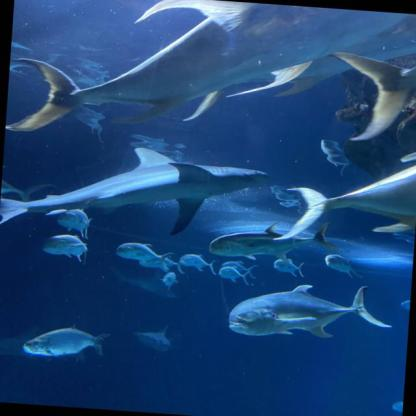fish: (4, 0, 416, 161), (272, 140, 416, 250), (227, 277, 393, 345), (321, 36, 415, 146), (209, 212, 342, 266), (22, 320, 111, 361), (0, 164, 58, 205), (115, 241, 176, 270), (42, 233, 89, 264), (56, 207, 93, 238), (323, 254, 364, 278), (138, 253, 186, 273), (178, 253, 218, 274), (273, 258, 306, 278), (218, 264, 251, 284), (221, 260, 258, 273), (160, 271, 178, 290), (389, 398, 403, 416), (400, 298, 410, 312)
shark: (0, 137, 270, 248), (131, 322, 176, 353)
